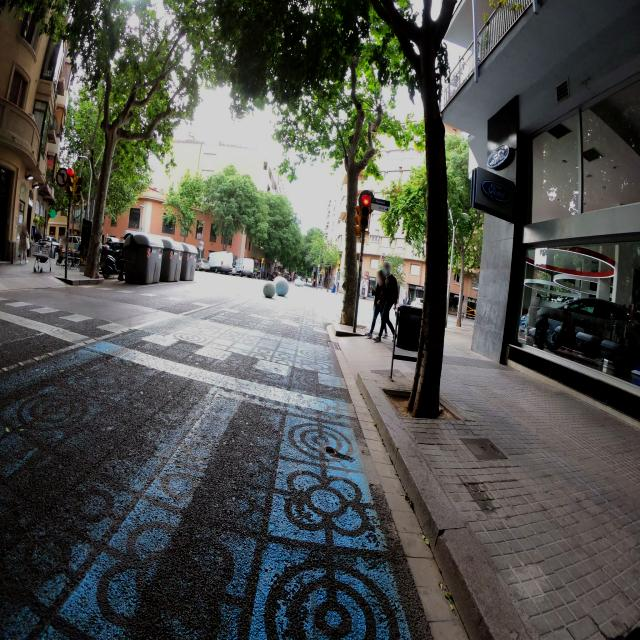car: (532, 296, 640, 375), (195, 258, 210, 272)
